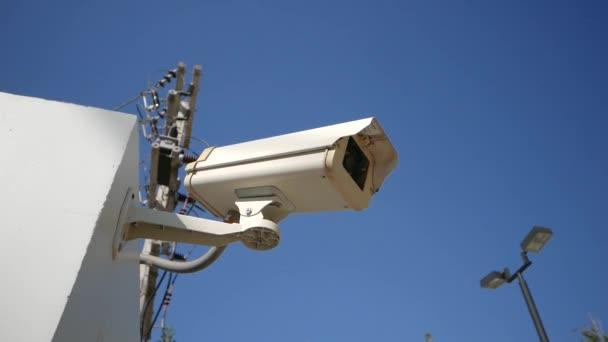------------------------------: (174, 114, 408, 245)
